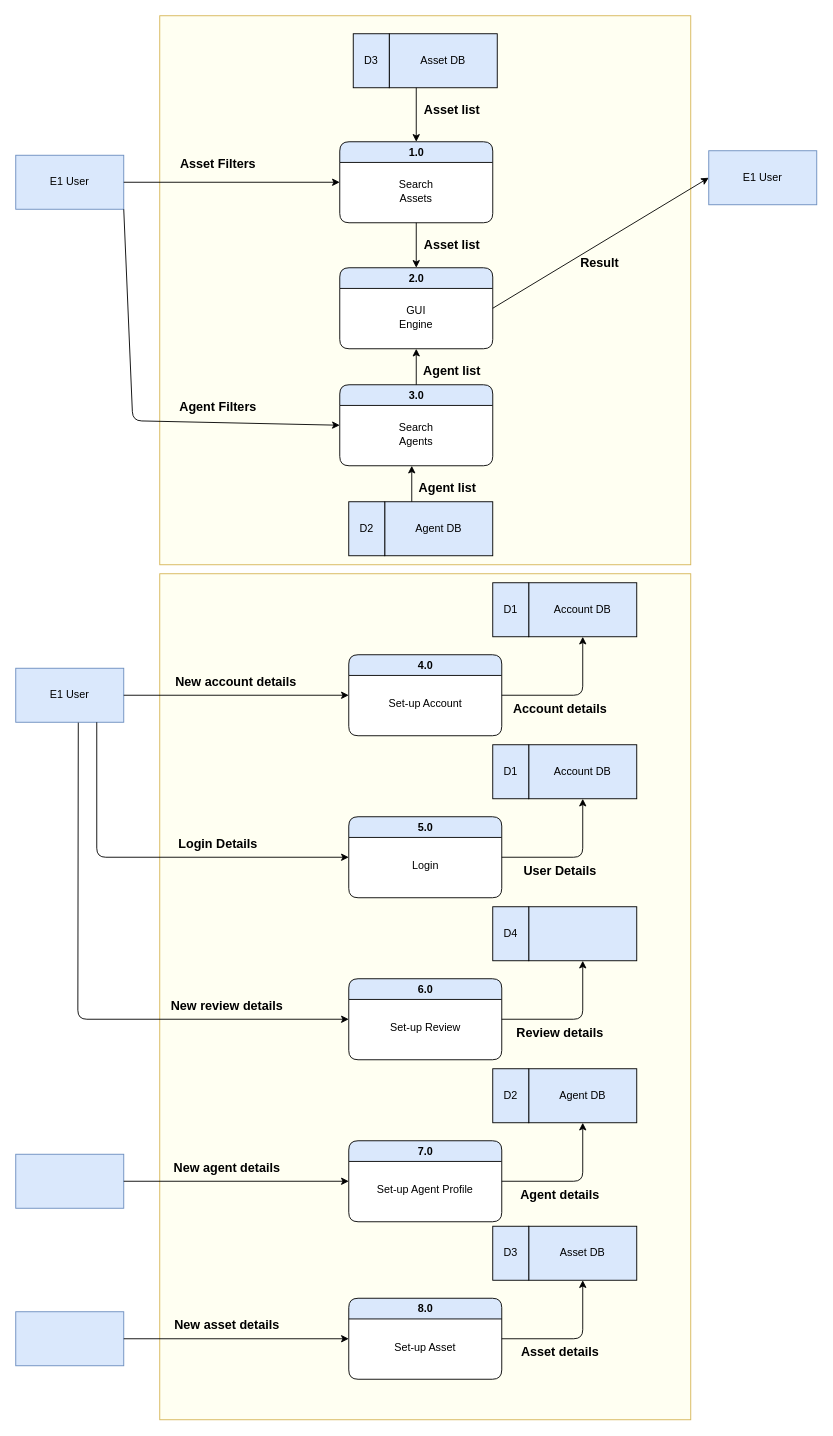
Some shapes in this 833 by 1436 pixel diagram are drawn without their labels. The shapes that lost their labels are listed below. From the top down, each one's centre as x and y in pixels, then its label:
At pixel 582 933: "Review DB".
At pixel 69 1180: "E2 Signed-In User".
At pixel 69 1338: "E3 Agent".
